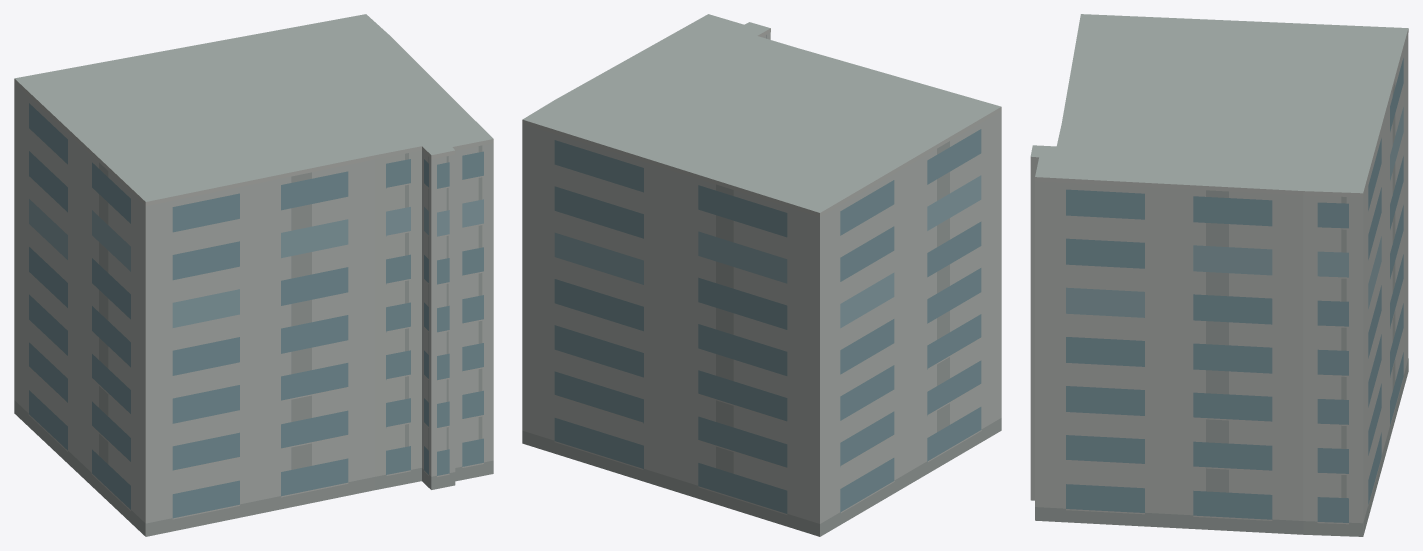
The model's file is survey-upis-33028705.glb.
3 renders of one model, left to right at view 1: azimuth 30°, elevation 25°; view 2: azimuth 150°, elevation 25°; view 3: azimuth 270°, elevation 25°, orthographic. The views are drawn at different scales.
Visible parts, largest first — view 1: survey-upis-33028705.tmp; view 2: survey-upis-33028705.tmp; view 3: survey-upis-33028705.tmp.
Part boxes in pixels (x1,y1,x2,y2): survey-upis-33028705.tmp: [14, 14, 493, 536]; survey-upis-33028705.tmp: [522, 14, 1001, 536]; survey-upis-33028705.tmp: [1030, 14, 1408, 536].
Bounding box in the file's own units: 21.71 × 19.4 × 19.34.
